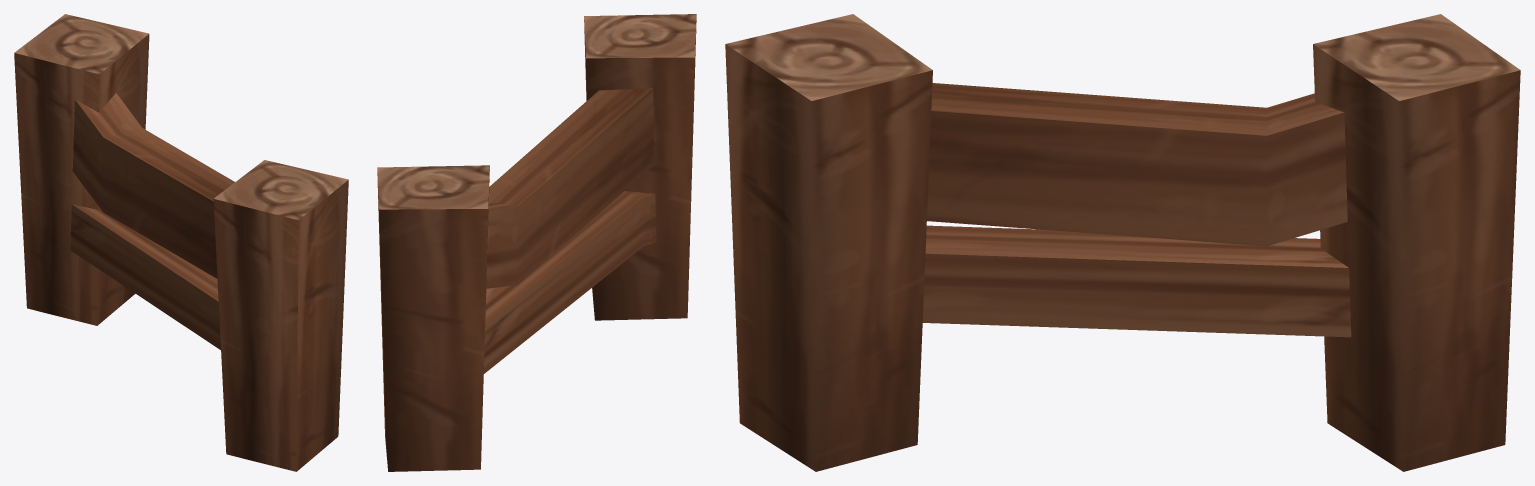
The model's file is fence4.FBX.
The picture shows the model from 3 angles, left to right: view 1: azimuth 30°, elevation 25°; view 2: azimuth 150°, elevation 25°; view 3: azimuth 270°, elevation 25°; orthographic projection. The views are drawn at different scales.
Visible parts, largest first — view 1: fence4; view 2: fence4; view 3: fence4.
Boxes of the visible parts, bbox=[...] form: fence4: bbox=[14, 14, 348, 471]; fence4: bbox=[377, 14, 696, 471]; fence4: bbox=[725, 14, 1520, 471].
Bounding box in the file's own units: 91 × 184 × 351.
1 material, 1 textured.
